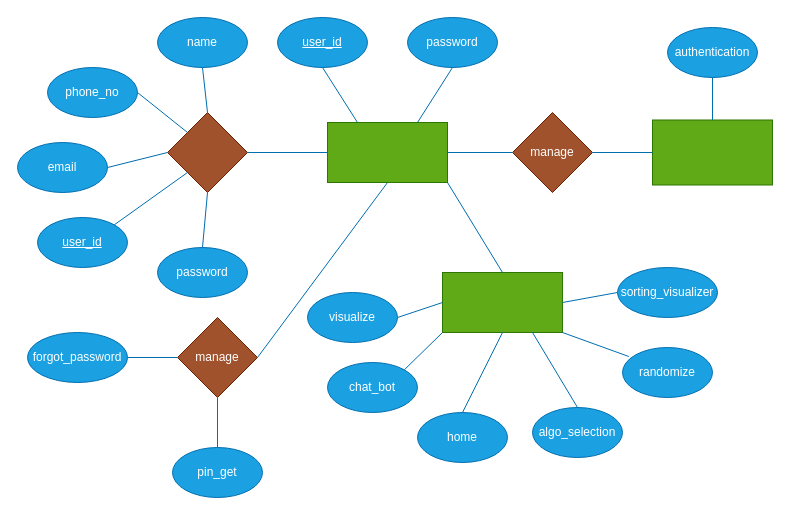
Some shapes in this 790 by 515 pixel diagram are drawn without their labels. The centre of each missing label's shape, as x and y in pixels:
"admin" belongs at point 712,152.
"dashboard" belongs at point 502,302.
"login" belongs at point 387,152.
"provides" belongs at point 207,152.
